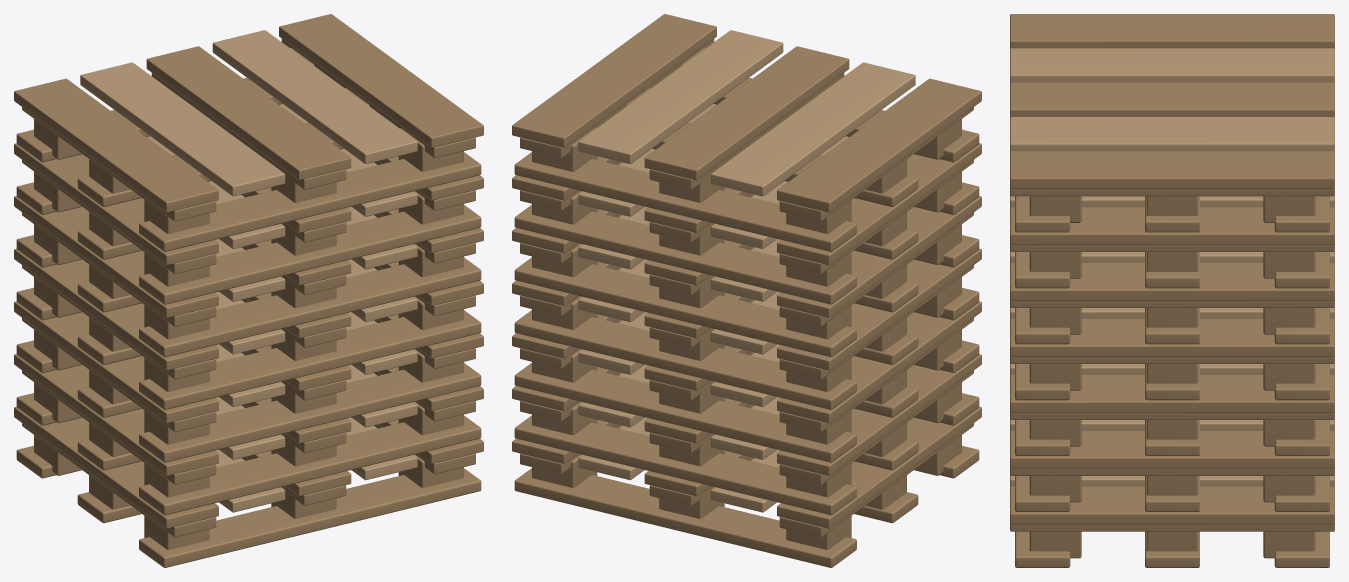
Rendered from SM_PalletStack.fbx.
3 views of the same model, side by side, from view 1: azimuth 30°, elevation 25°; view 2: azimuth 150°, elevation 25°; view 3: azimuth 270°, elevation 25° (orthographic). The views are drawn at different scales.
Visible parts, largest first — view 1: SM_PalletStack; view 2: SM_PalletStack; view 3: SM_PalletStack.
Boxes of the visible parts, x1,y1,x2,y2 form: SM_PalletStack: (14, 14, 483, 567); SM_PalletStack: (512, 14, 981, 567); SM_PalletStack: (1010, 14, 1334, 567).
Size of the model in its own units: 120 by 100 by 133.
